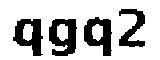2: (115, 6, 147, 50)
g: (48, 17, 79, 59)
q: (9, 15, 42, 60), (82, 15, 112, 60)
